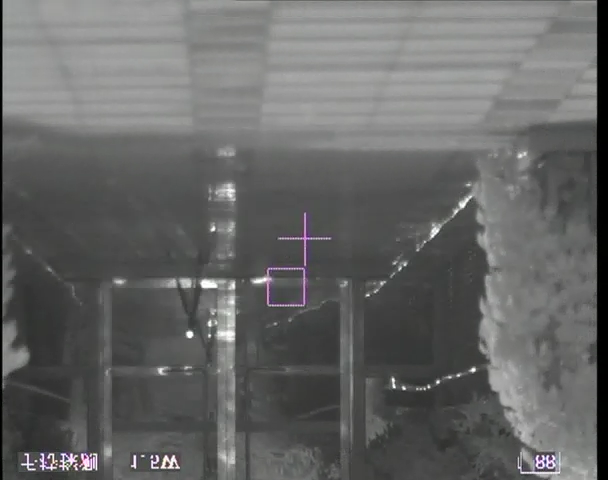my: (184, 329, 195, 341)
